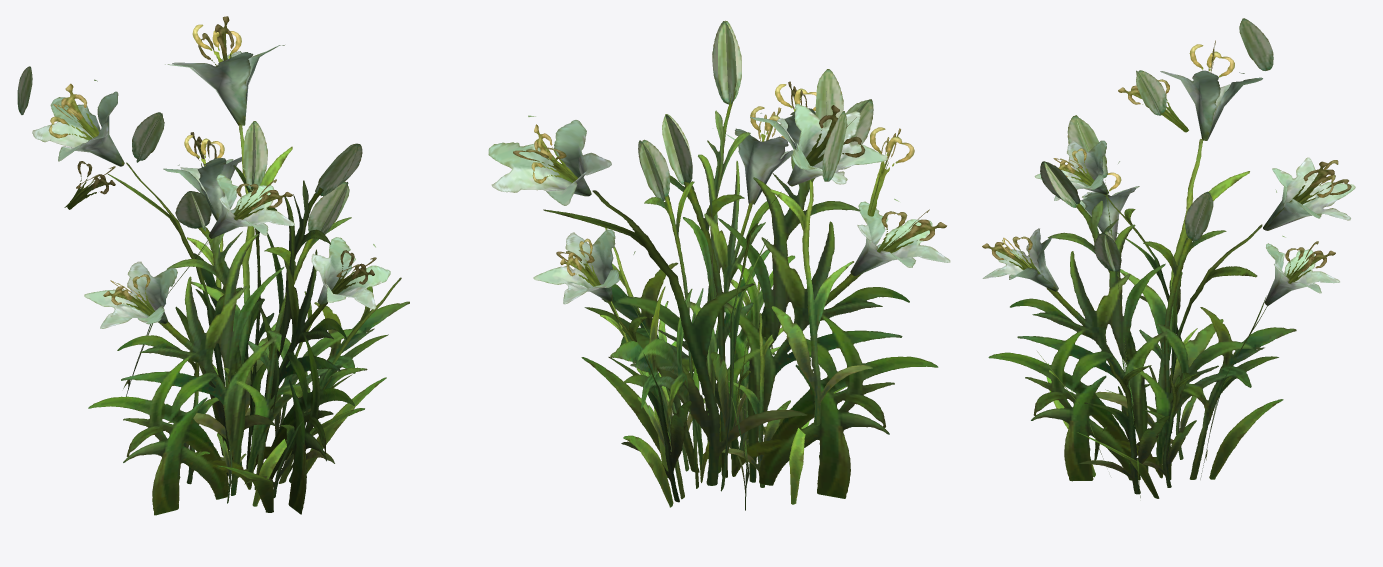
The model's file is zhucheng_zw02.FBX.
The picture shows the model from 3 angles, left to right: view 1: azimuth 30°, elevation 25°; view 2: azimuth 150°, elevation 25°; view 3: azimuth 270°, elevation 25°; orthographic projection. The views are drawn at different scales.
Visible parts, largest first — view 1: zhucheng_zw02; view 2: zhucheng_zw02; view 3: zhucheng_zw02.
Part boxes in pixels (x1,y1,x2,y2): zhucheng_zw02: (17, 16, 409, 515); zhucheng_zw02: (488, 20, 950, 510); zhucheng_zw02: (982, 18, 1355, 498).
Bounding box in the file's own units: 58.64 × 58.86 × 67.02.
